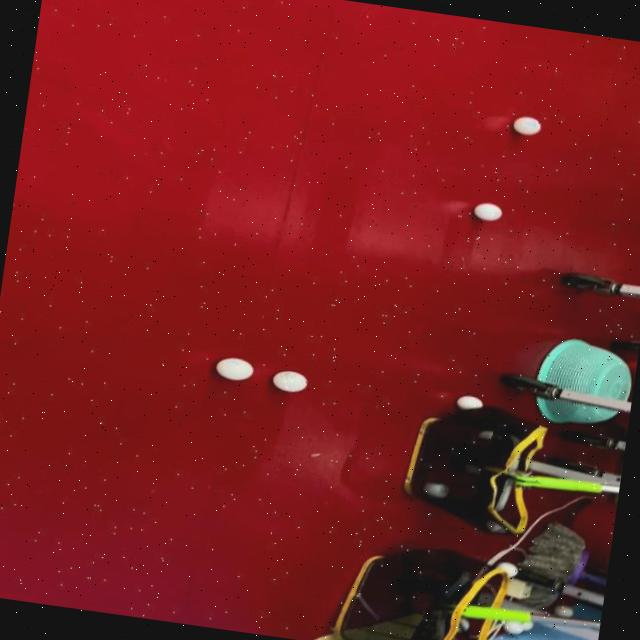ping-pong-ball: (211, 353, 256, 387), (270, 369, 311, 396), (510, 115, 546, 140), (452, 394, 490, 416), (471, 202, 505, 224), (492, 562, 520, 584), (503, 622, 525, 638), (554, 606, 576, 621)
